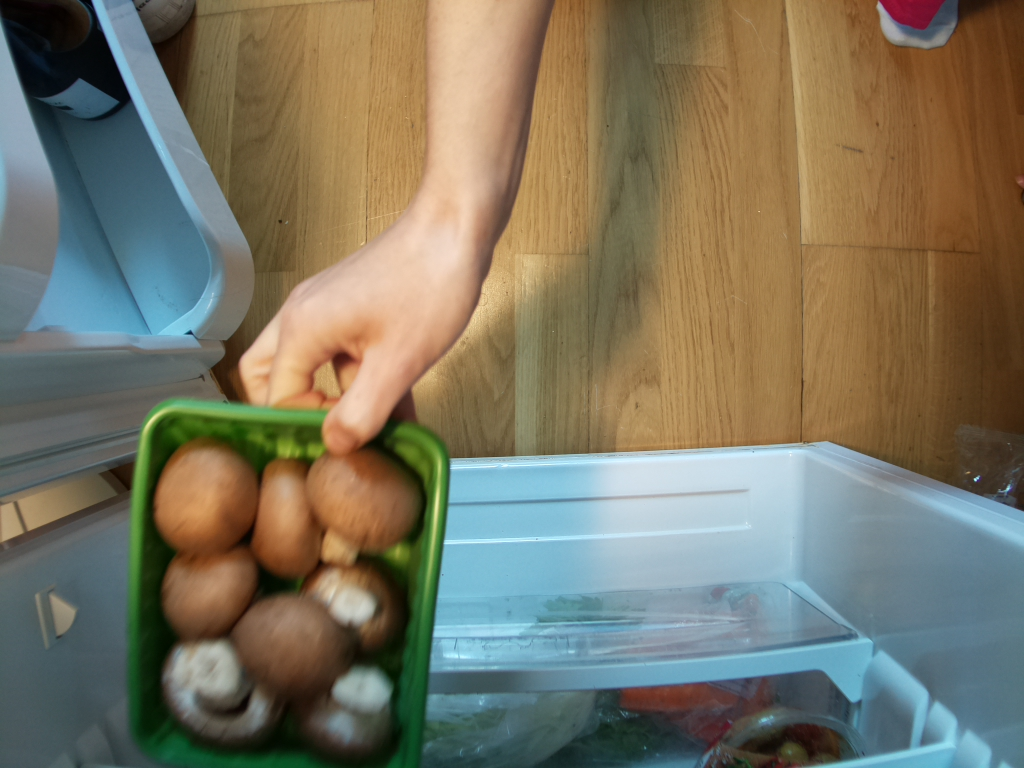mushrooms: (120, 388, 443, 768)
